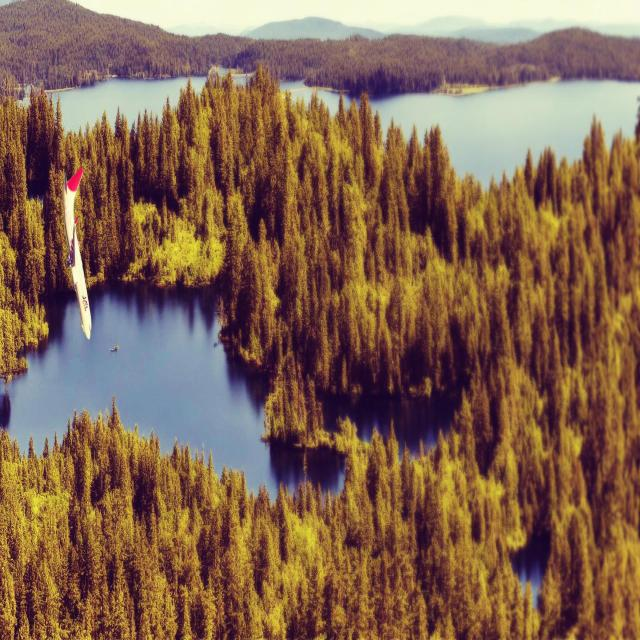airplane: (62, 165, 92, 340)
